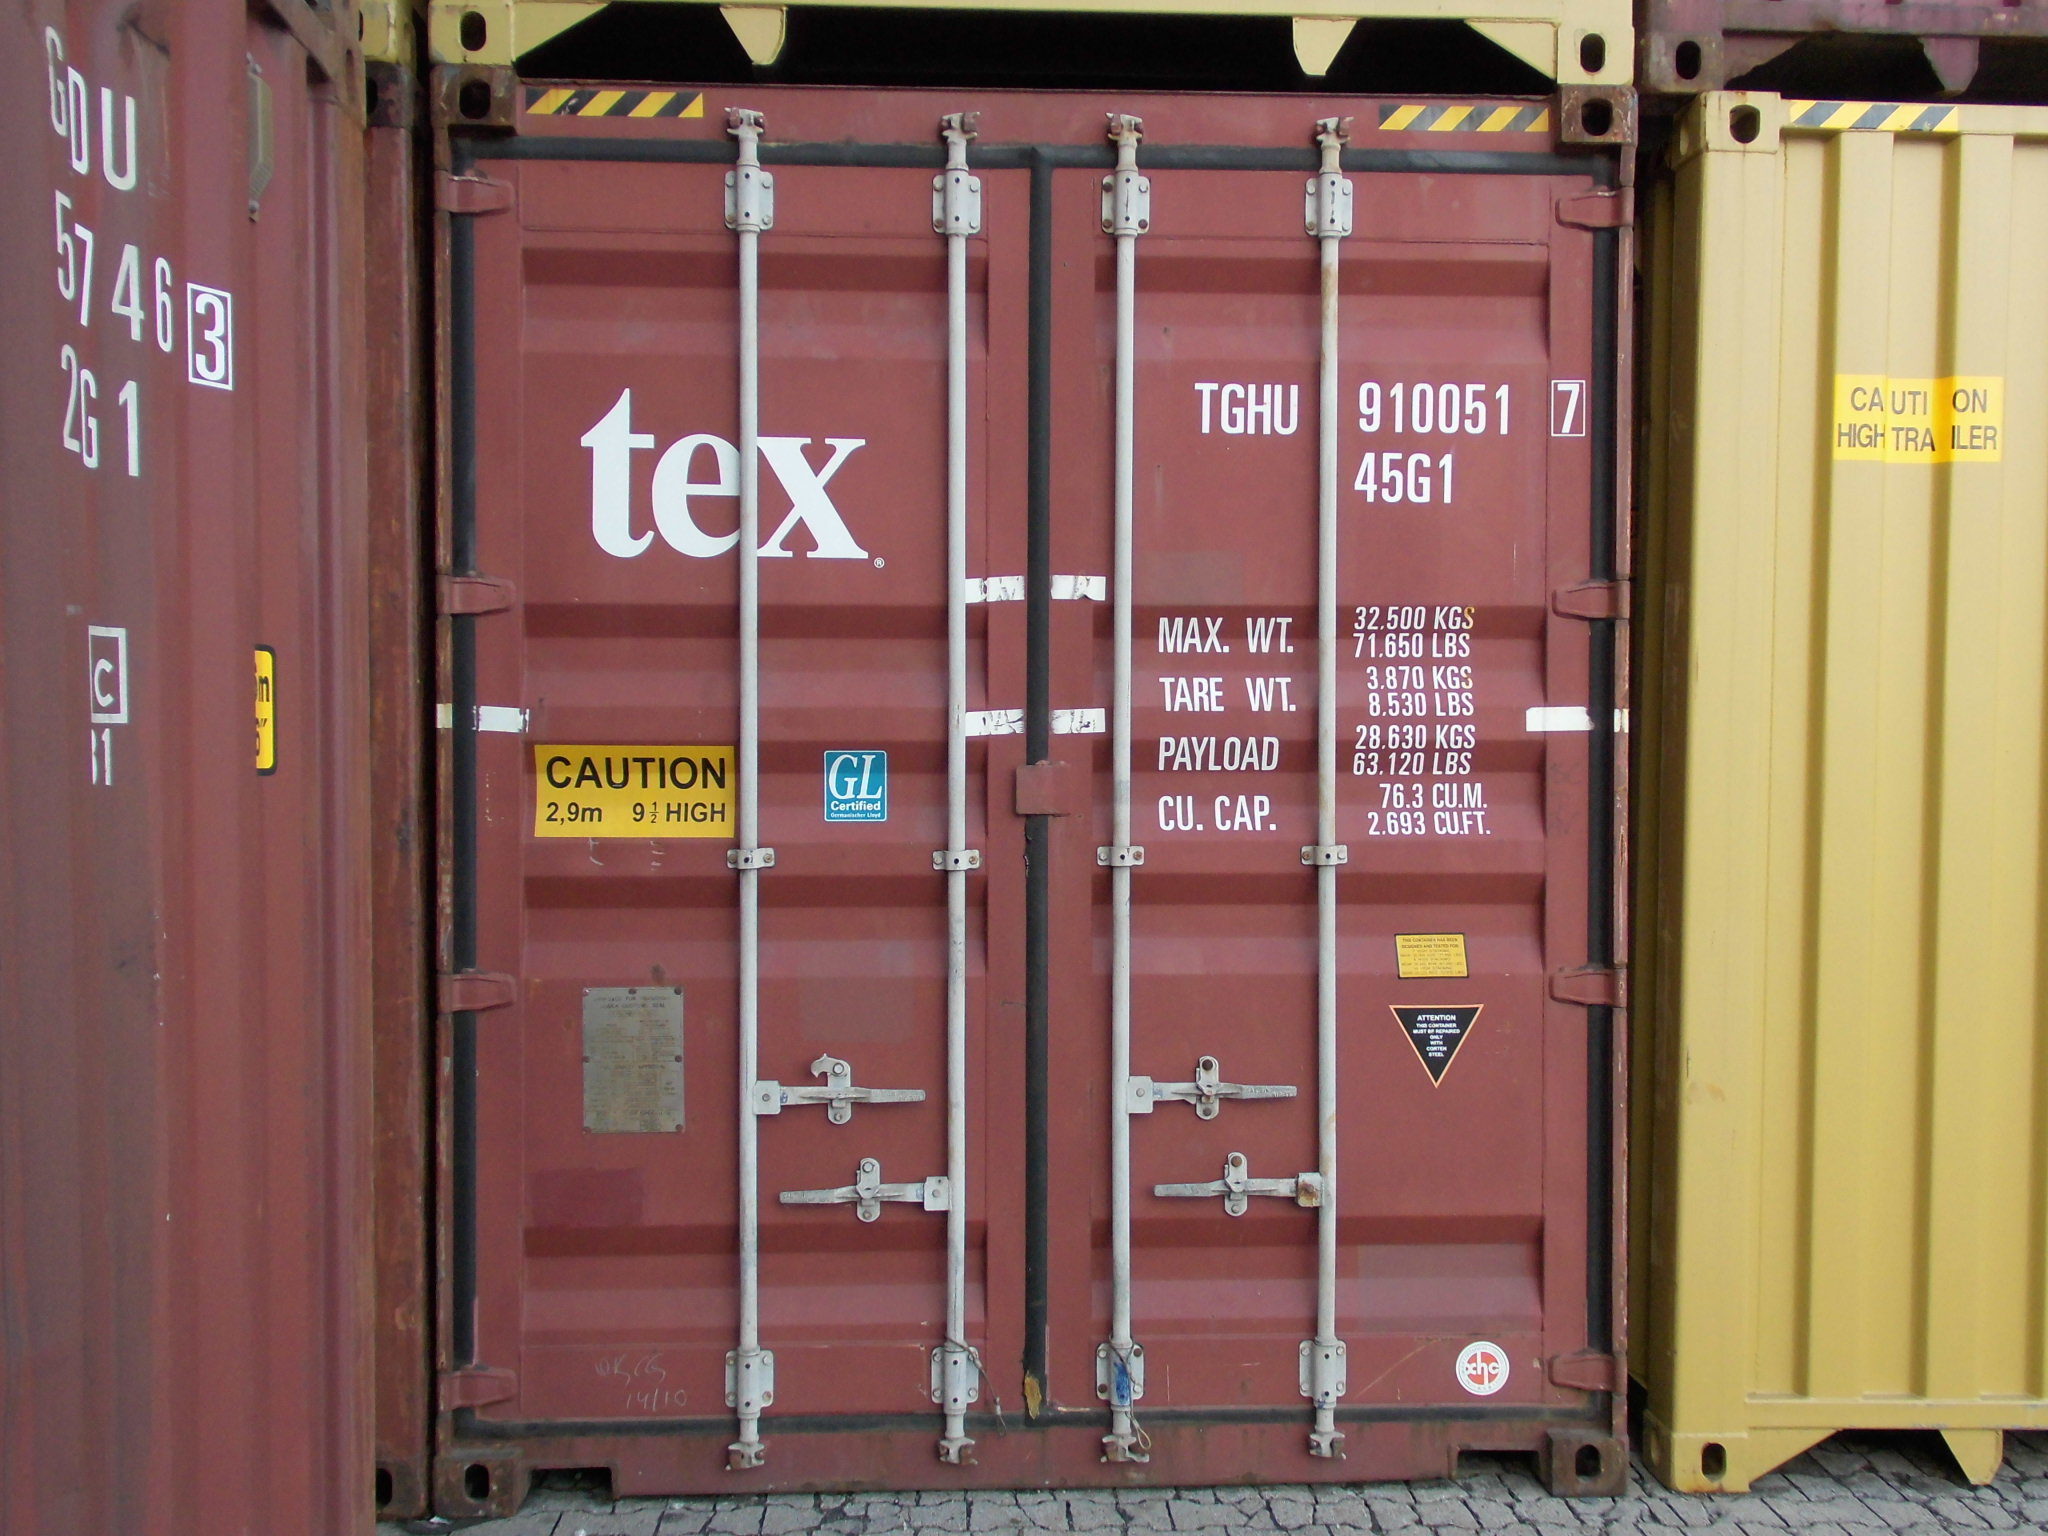container_door: (427, 68, 1635, 1497)
